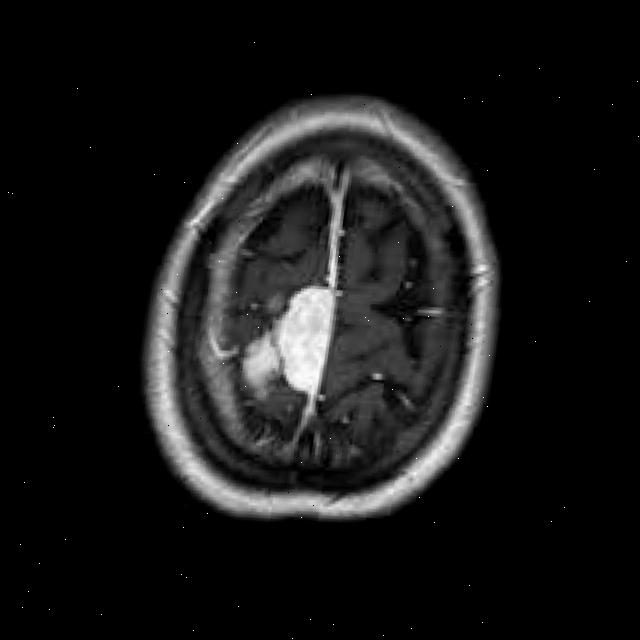Meningioma: (239, 272, 340, 405)
